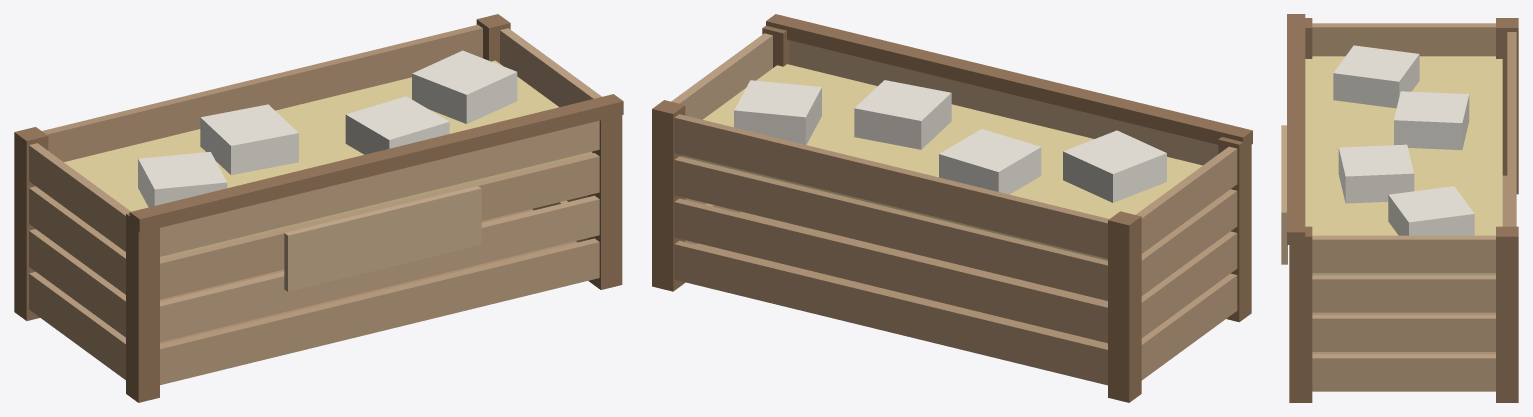
Rendered from station_bin.glb.
The picture shows the model from 3 angles, left to right: view 1: azimuth 30°, elevation 25°; view 2: azimuth 150°, elevation 25°; view 3: azimuth 270°, elevation 25°; orthographic projection. The views are drawn at different scales.
Parts seen in each view (by area): view 1: Plank front.0, Plank right.0, Post.-1.-1, Spare crate.0, Plank back.0, Straw, Sign board; view 2: Plank back.0, Post.-1.-1, Spare crate.0, Plank front.0, Straw, Plank right.0; view 3: Plank right.0, Straw, Spare crate.0, Post.-1.-1, Plank front.0, Plank back.0, Sign board.
Part boxes in pixels (x1,y1,x2,y2): Plank front.0: (29,143,599,385); Plank right.0: (160,28,601,342); Post.-1.-1: (14,14,623,402); Spare crate.0: (138,50,517,207); Plank back.0: (42,24,577,344); Straw: (64,60,592,258); Sign board: (284,186,481,291); Plank back.0: (674,114,1109,385); Post.-1.-1: (652,14,1252,402); Spare crate.0: (734,80,1166,202); Plank front.0: (1136,146,1237,380); Straw: (681,64,1202,260); Plank right.0: (671,33,1218,244); Plank right.0: (1312,235,1495,391); Straw: (1305,56,1502,275); Spare crate.0: (1333,45,1474,235); Post.-1.-1: (1287,14,1518,402); Plank front.0: (1312,23,1495,56); Plank back.0: (1312,32,1516,354); Sign board: (1281,125,1287,264).
Size of the model in its own units: 2.25 by 0.82 by 1.03.
